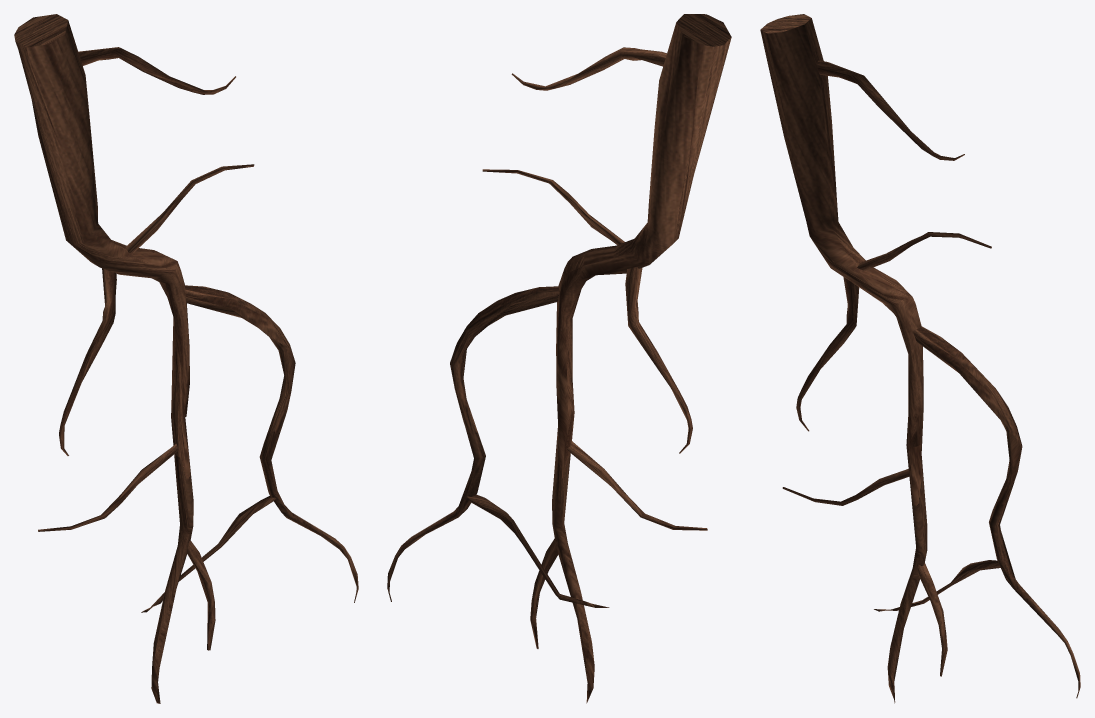
File: wallroots2.FBX
3 renders of one model, left to right at view 1: azimuth 30°, elevation 25°; view 2: azimuth 150°, elevation 25°; view 3: azimuth 330°, elevation 25°, orthographic. The views are drawn at different scales.
Visible parts, largest first — view 1: Line001, Line002; view 2: Line001, Line002; view 3: Line001, Line002.
Boxes of the visible parts, x1,y1,x2,y2 form: Line001: (14,14,358,703); Line002: (78,47,254,253); Line001: (387,14,731,703); Line002: (482,47,666,244); Line001: (760,14,1080,703); Line002: (817,60,991,270).
Size of the model in its own units: 161 by 321 by 23.
1 material, 1 textured.
